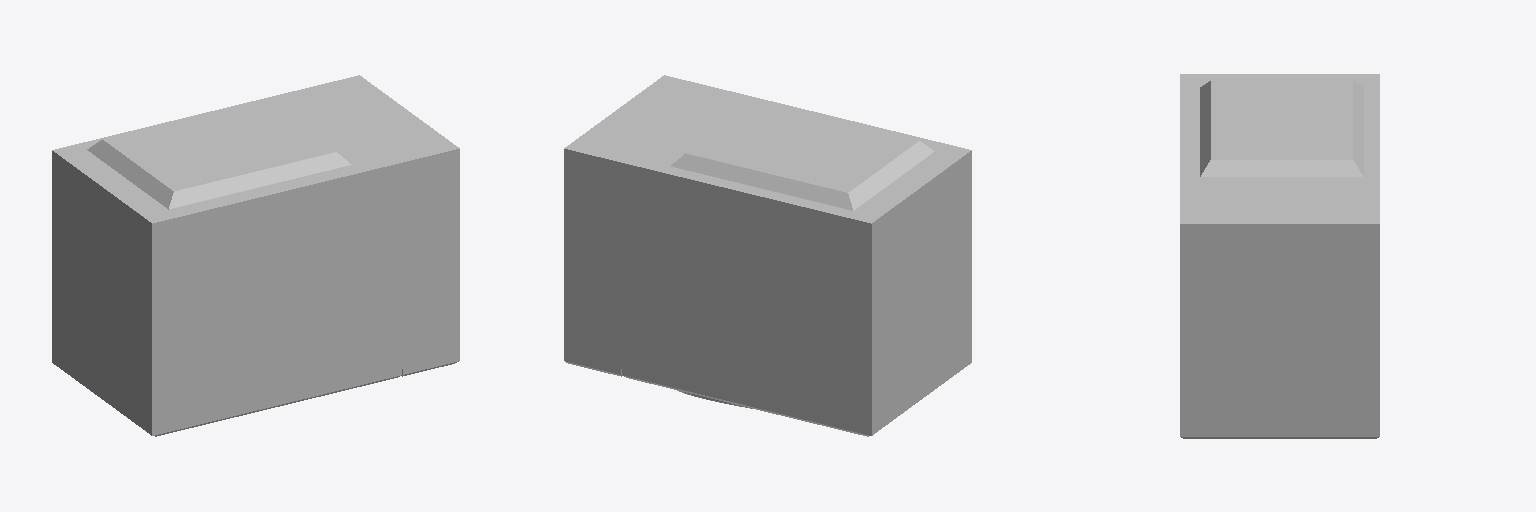
The model's file is microwave_bi.obj.
3 views of the same model, side by side, from view 1: azimuth 30°, elevation 25°; view 2: azimuth 150°, elevation 25°; view 3: azimuth 270°, elevation 25° (orthographic).
Visible parts, largest first — view 1: obj1, obj2; view 2: obj1, obj2; view 3: obj1.
Boxes of the visible parts, x1,y1,x2,y2 form: obj1: [52, 75, 459, 422]; obj2: [52, 350, 401, 436]; obj1: [564, 75, 971, 422]; obj2: [622, 350, 971, 436]; obj1: [1180, 74, 1379, 438].
Bounding box in the file's own units: 4.9 × 3.6 × 2.77.